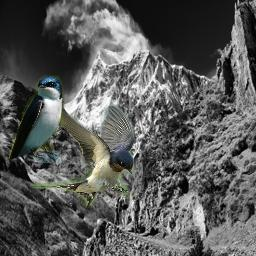Swallow: (30, 97, 134, 208), (9, 75, 65, 163)
